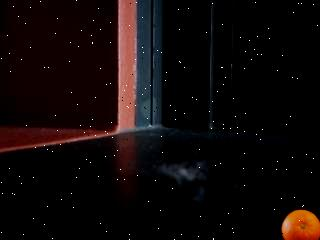Potato: (281, 208, 320, 240)
